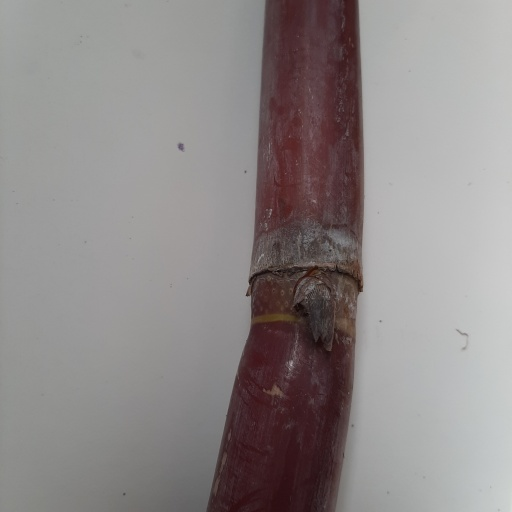Bud: (297, 275, 336, 346)
